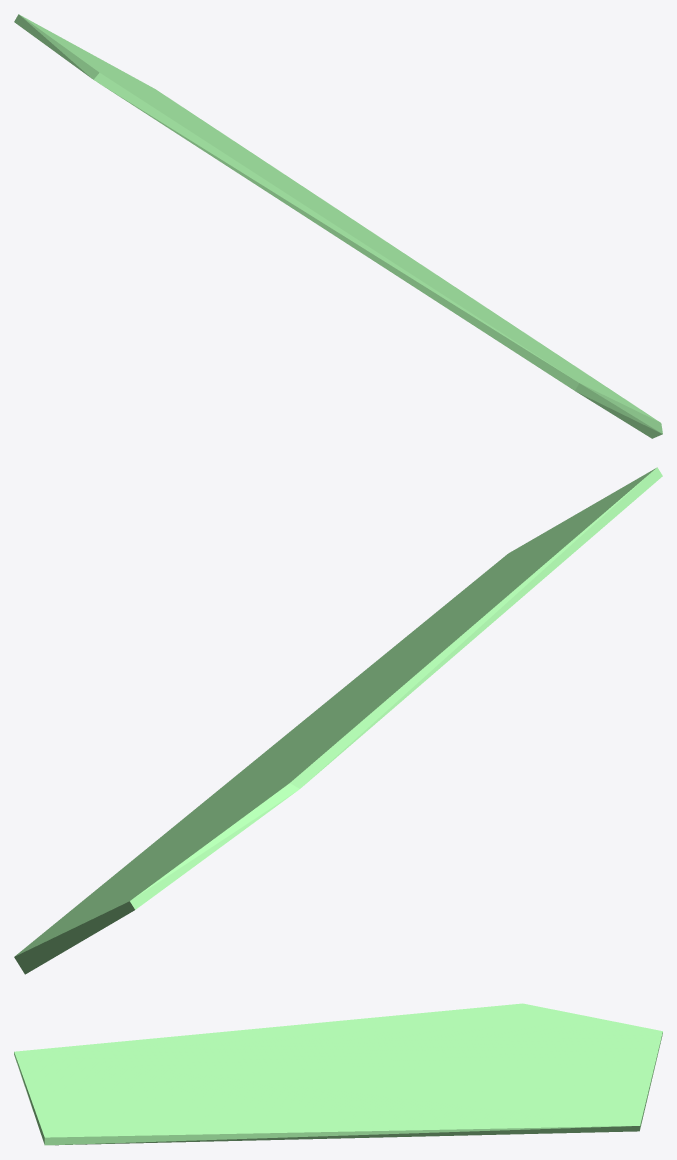
Rendered from dvkr_robot_Lp2_respondable_PSM1_coll_5.dae.
The picture shows the model from 3 angles, top to bottom: view 1: azimuth 30°, elevation 25°; view 2: azimuth 150°, elevation 25°; view 3: azimuth 270°, elevation 25°; orthographic projection. The views are drawn at different scales.
Parts seen in each view (by area): view 1: Node_0000023514CD6980; view 2: Node_0000023514CD6980; view 3: Node_0000023514CD6980.
Part boxes in pixels (box(x1,y1,x2,y2)): Node_0000023514CD6980: box(14, 14, 662, 438); Node_0000023514CD6980: box(14, 467, 662, 974); Node_0000023514CD6980: box(14, 1003, 662, 1145).
Bounding box in the file's own units: 0.0492 × 0.0323 × 0.2232.
